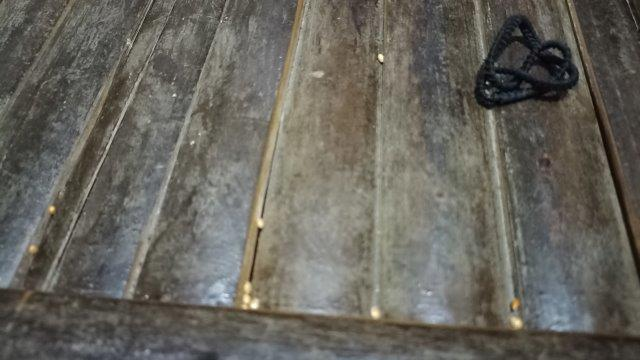karet: (475, 15, 579, 107)
